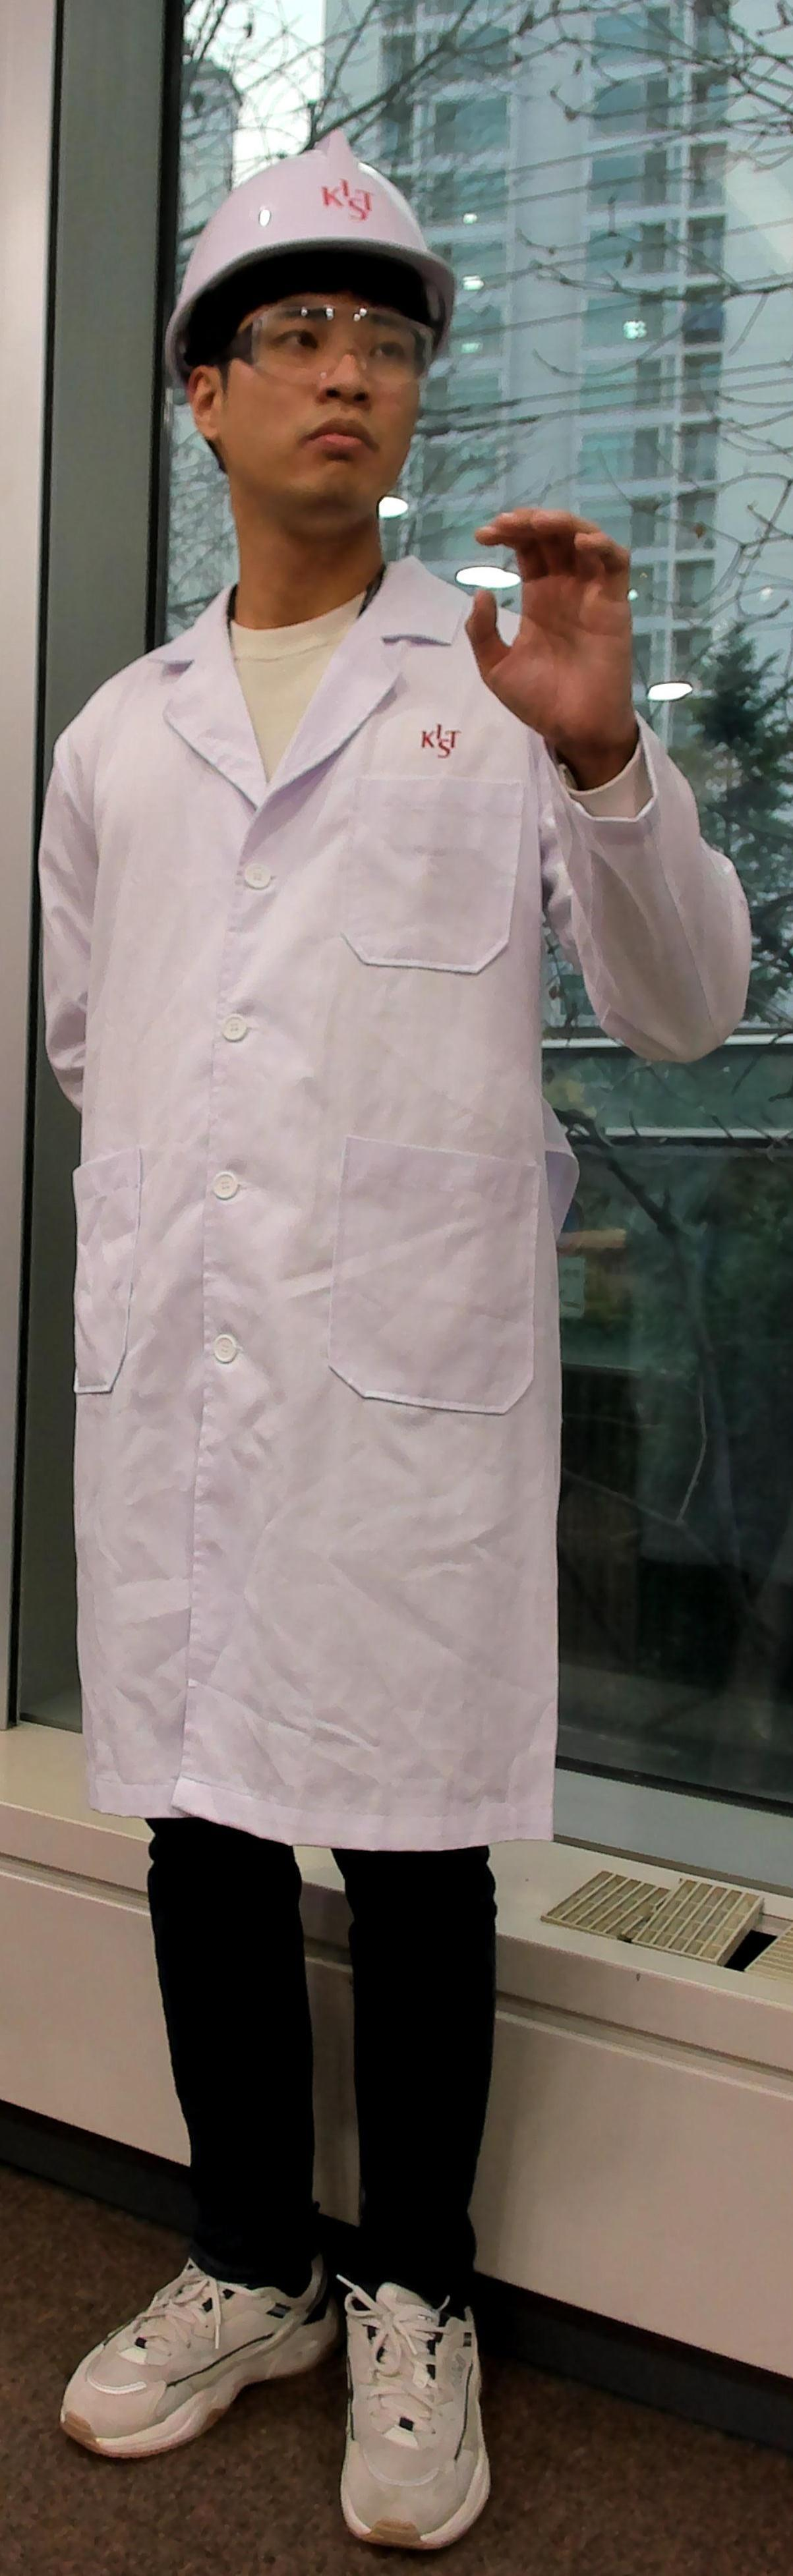lab_coat: (34, 739, 557, 1838)
